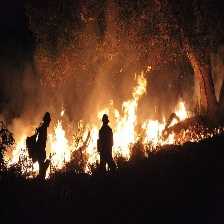fire: (4, 76, 219, 180)
smoke: (72, 23, 132, 98)
